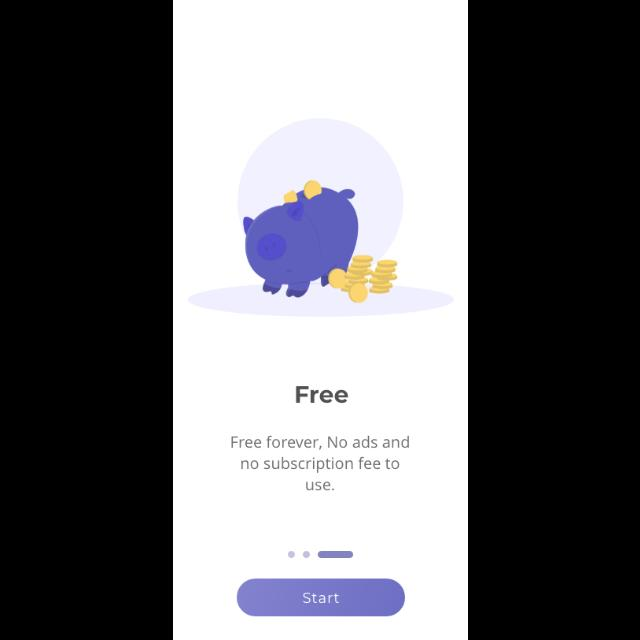image: (188, 118, 454, 318)
pageindicator: (287, 550, 353, 558)
text: (231, 436, 409, 490), (296, 385, 348, 403)
textbutton: (237, 579, 405, 617)
